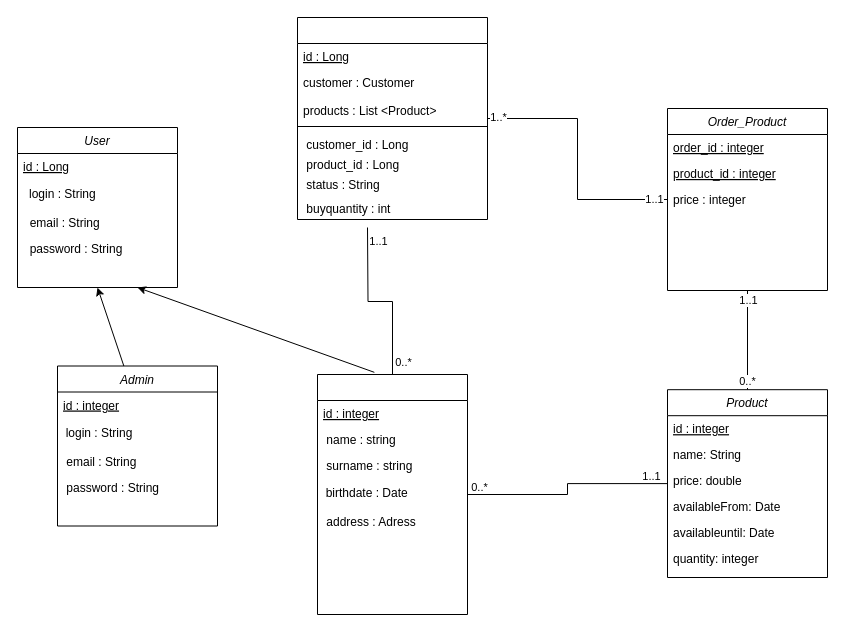
The diagram is 845 pixels wide and 632 high, and some of its shapes have lost their labels. The shapes that lost their labels are listed below. From the top down, each one's box as (x1, y1, x2, y2) in pixels, then its label:
(296, 16, 488, 220): Order
(316, 374, 468, 614): Customer
